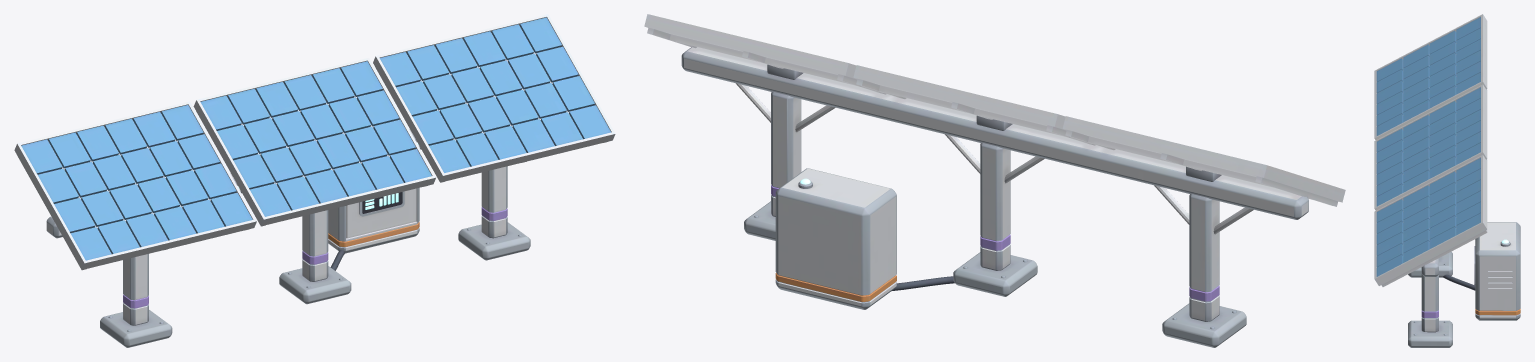
File: solar-panel-array.glb
The picture shows the model from 3 angles, left to right: view 1: azimuth 30°, elevation 25°; view 2: azimuth 150°, elevation 25°; view 3: azimuth 270°, elevation 25°; orthographic projection. The views are drawn at different scales.
Visible parts, largest first — view 1: solar-panel-array_body; view 2: solar-panel-array_body; view 3: solar-panel-array_body.
Part boxes in pixels (x1=…): solar-panel-array_body: x1=14, y1=14, x2=615, y2=347; solar-panel-array_body: x1=644, y1=14, x2=1345, y2=347; solar-panel-array_body: x1=1374, y1=14, x2=1520, y2=347.
Size of the model in its own units: 3.94 by 1.33 by 1.17.
Materials: 3 (1 with a texture image).
